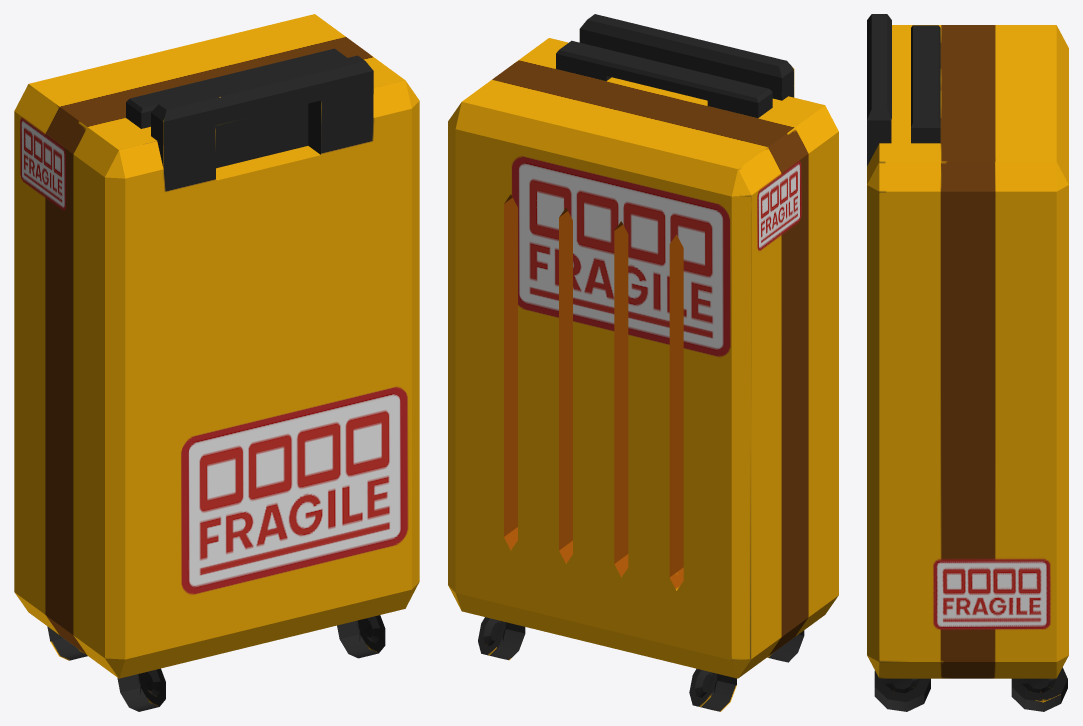
The model's file is LuggageFragile.fbx.
The picture shows the model from 3 angles, left to right: view 1: azimuth 30°, elevation 25°; view 2: azimuth 150°, elevation 25°; view 3: azimuth 270°, elevation 25°; orthographic projection. The views are drawn at different scales.
Visible parts, largest first — view 1: Cube.007; view 2: Cube.007; view 3: Cube.007.
Part boxes in pixels (box(x1,y1,x2,y2)): Cube.007: box(14, 14, 419, 711); Cube.007: box(448, 14, 838, 711); Cube.007: box(867, 14, 1068, 711).
Size of the model in its own units: 2.17 by 4 by 1.24.
Materials: 1 (1 with a texture image).
